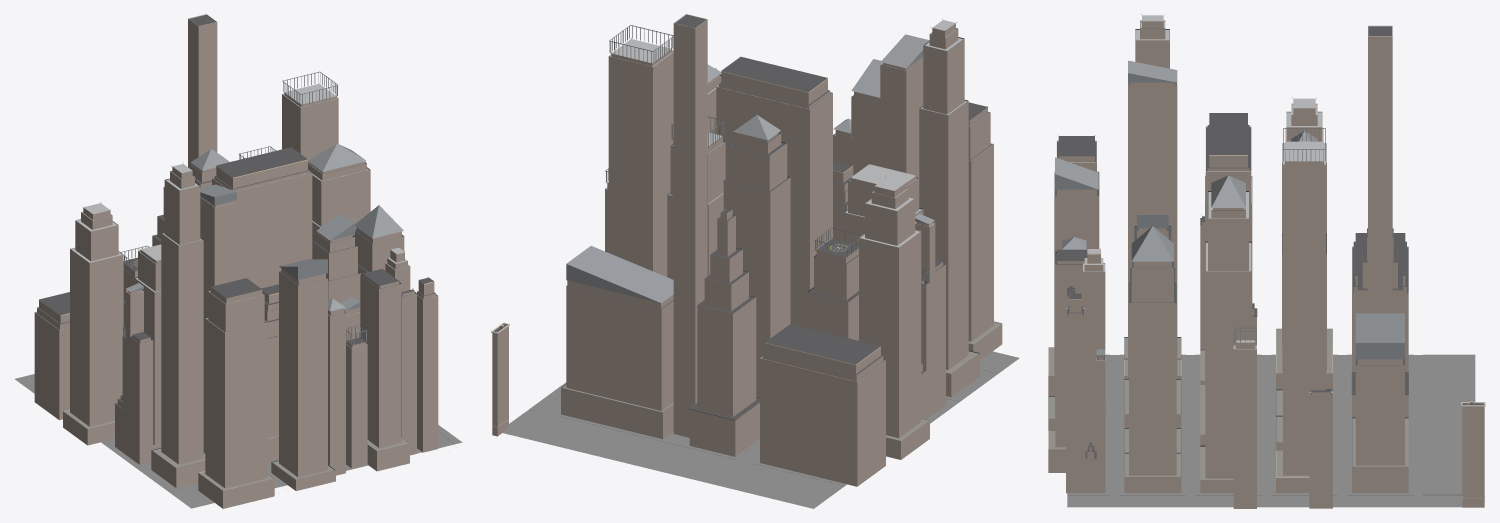
3 renders of one model, left to right at view 1: azimuth 30°, elevation 25°; view 2: azimuth 150°, elevation 25°; view 3: azimuth 270°, elevation 25°, orthographic. The views are drawn at different scales.
Visible parts, largest first — view 1: t22_facade, t22_roof, t22_ground, t22_detail; view 2: t22_facade, t22_roof, t22_ground, t22_detail; view 3: t22_facade, t22_ground, t22_roof, t22_detail.
Part boxes in pixels (x1,y1,x2,y2): t22_facade: (34, 19, 438, 508); t22_roof: (36, 15, 436, 490); t22_ground: (15, 374, 462, 508); t22_detail: (35, 14, 437, 490); t22_facade: (492, 19, 1002, 486); t22_roof: (494, 15, 1000, 440); t22_ground: (502, 351, 1019, 508); t22_detail: (491, 14, 1001, 440); t22_facade: (1048, 21, 1484, 508); t22_ground: (1067, 354, 1475, 507); t22_roof: (1048, 14, 1484, 479); t22_detail: (1048, 20, 1485, 498).
Bounding box in the file's own units: 403 × 473 × 461.
